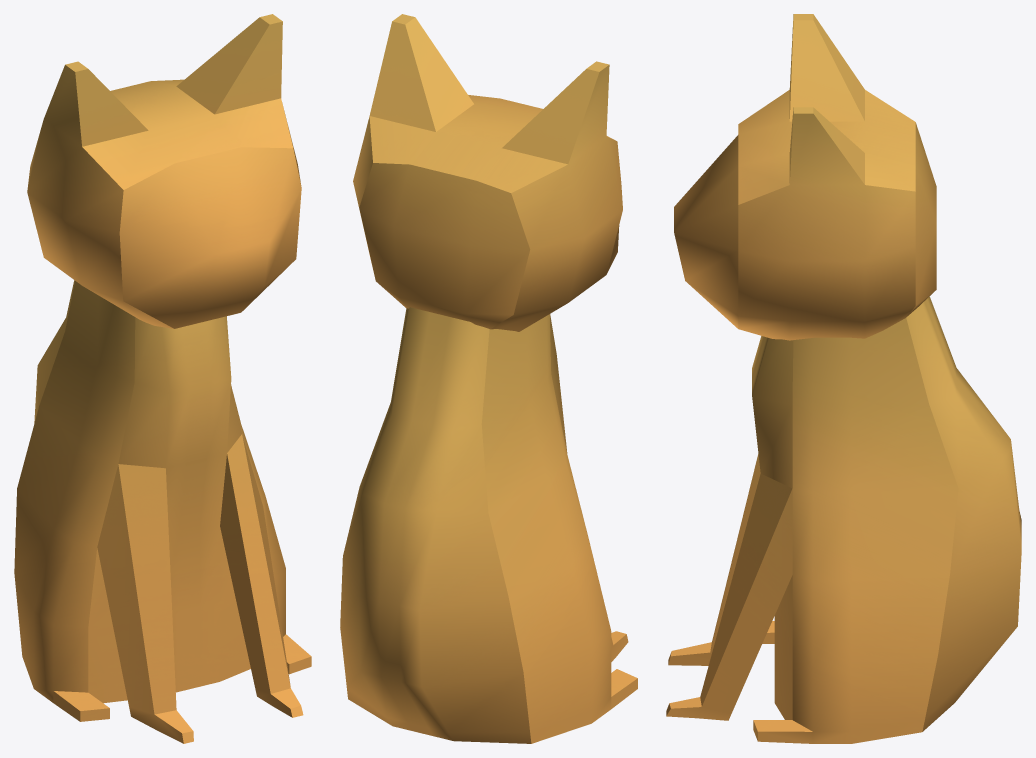
Rendered from cat_textures.fbx.
3 views of the same model, side by side, from view 1: azimuth 30°, elevation 25°; view 2: azimuth 150°, elevation 25°; view 3: azimuth 270°, elevation 25° (orthographic).
Parts seen in each view (by area): view 1: catBody, catHead; view 2: catBody, catHead; view 3: catBody, catHead.
Part boxes in pixels (left/top/right/bottom): catBody: left=14, top=280, right=311, bottom=743; catHead: left=27, top=14, right=301, bottom=328; catBody: left=340, top=307, right=637, bottom=743; catHead: left=353, top=14, right=622, bottom=331; catBody: left=666, top=296, right=1021, bottom=743; catHead: left=674, top=14, right=936, bottom=340.
Size of the model in its own units: 19143 by 50058 by 25809.
1 material, 1 textured.
